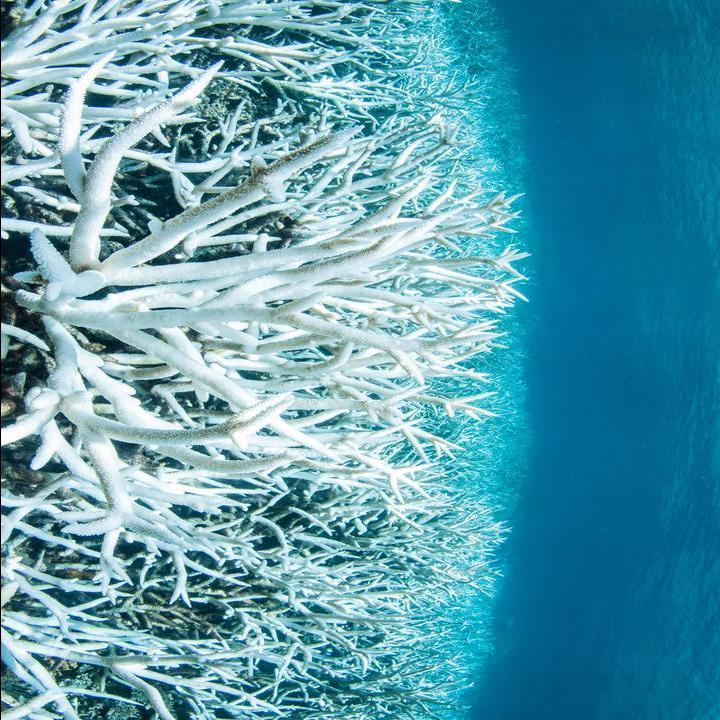Bleached disease: (8, 0, 491, 713)
